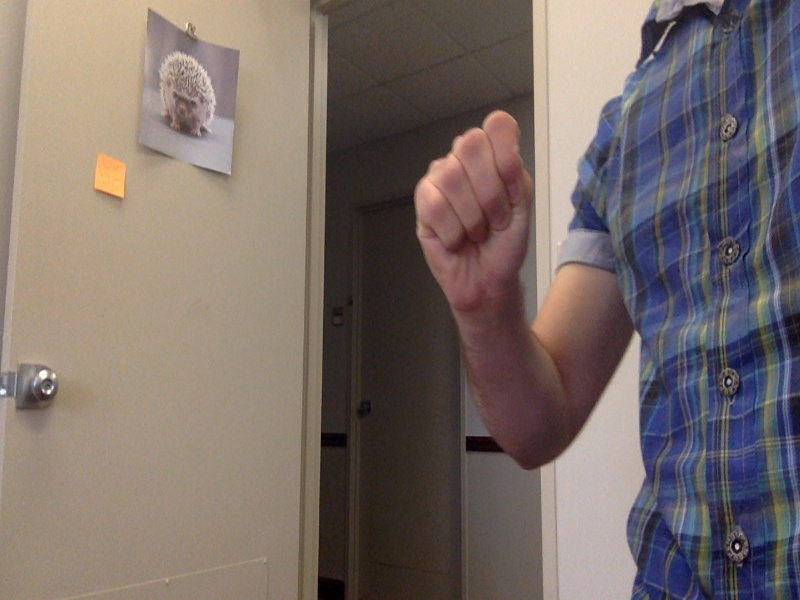0-hand: (406, 110, 536, 312)
